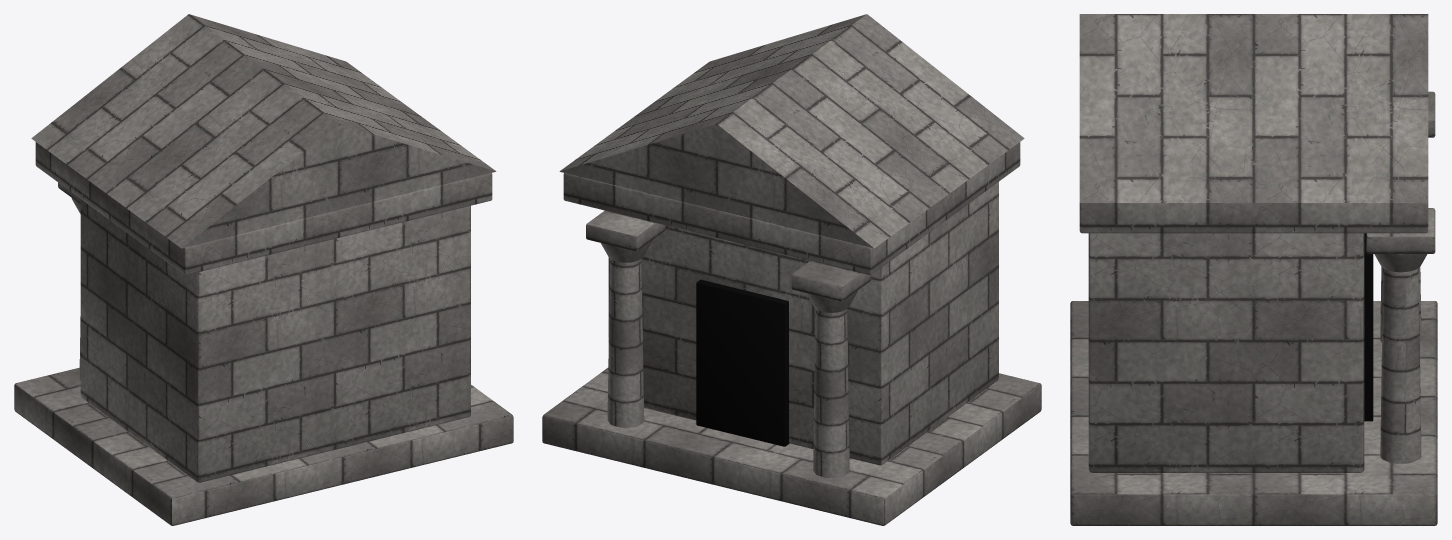
Rendered from Nekropolia.glb.
The picture shows the model from 3 angles, left to right: view 1: azimuth 30°, elevation 25°; view 2: azimuth 150°, elevation 25°; view 3: azimuth 270°, elevation 25°; orthographic projection. The views are drawn at different scales.
Parts seen in each view (by area): view 1: mauzoleum__blocks_grey; view 2: mauzoleum__blocks_grey, mauzoleum__void; view 3: mauzoleum__blocks_grey, mauzoleum__void.
Boxes of the visible parts, x1,y1,x2,y2 form: mauzoleum__blocks_grey: (14, 14, 513, 525); mauzoleum__blocks_grey: (542, 14, 1041, 525); mauzoleum__void: (696, 279, 789, 446); mauzoleum__blocks_grey: (1070, 14, 1437, 525); mauzoleum__void: (1364, 233, 1373, 421).
Size of the model in its own units: 10 by 10.21 by 8.
Materials: 6 (4 with a texture image).
